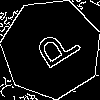P: (26, 23, 83, 76)
